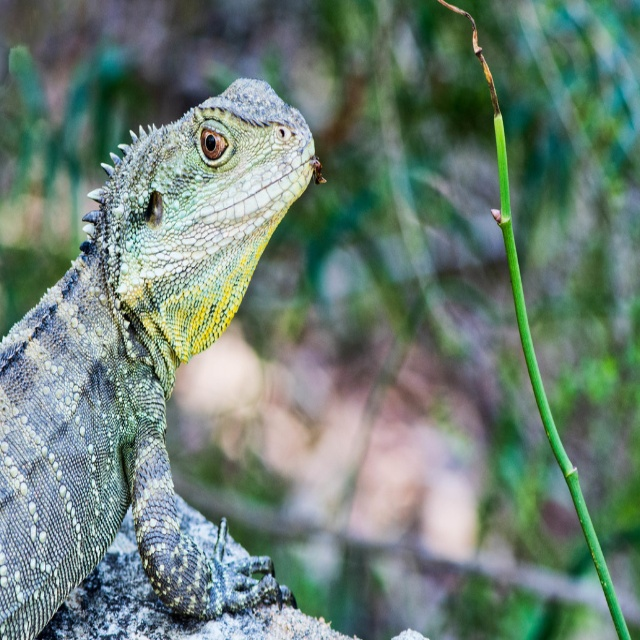Lizard: (0, 77, 316, 640)
